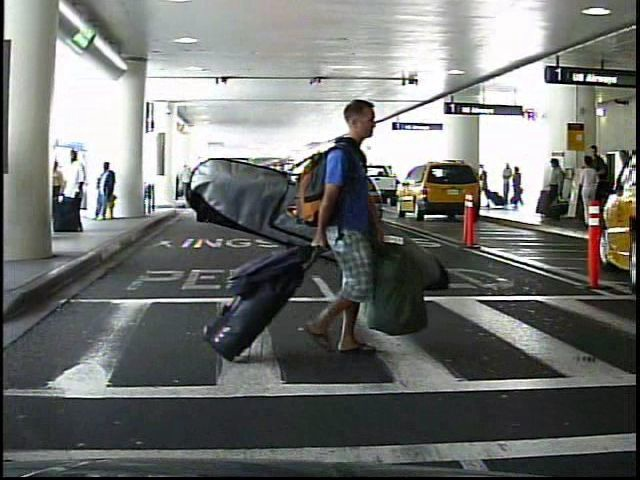person: (301, 88, 402, 370), (60, 146, 89, 235), (573, 155, 599, 227), (88, 160, 115, 226), (543, 157, 567, 224), (584, 143, 602, 221), (475, 161, 489, 209), (500, 162, 514, 209), (510, 163, 521, 207)
